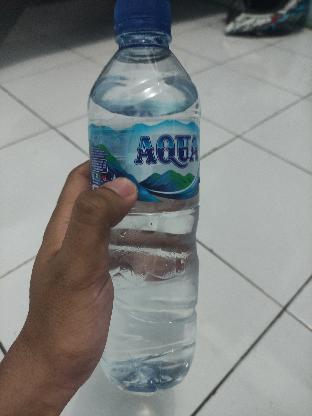Plastic Bottle: (82, 4, 218, 396)
